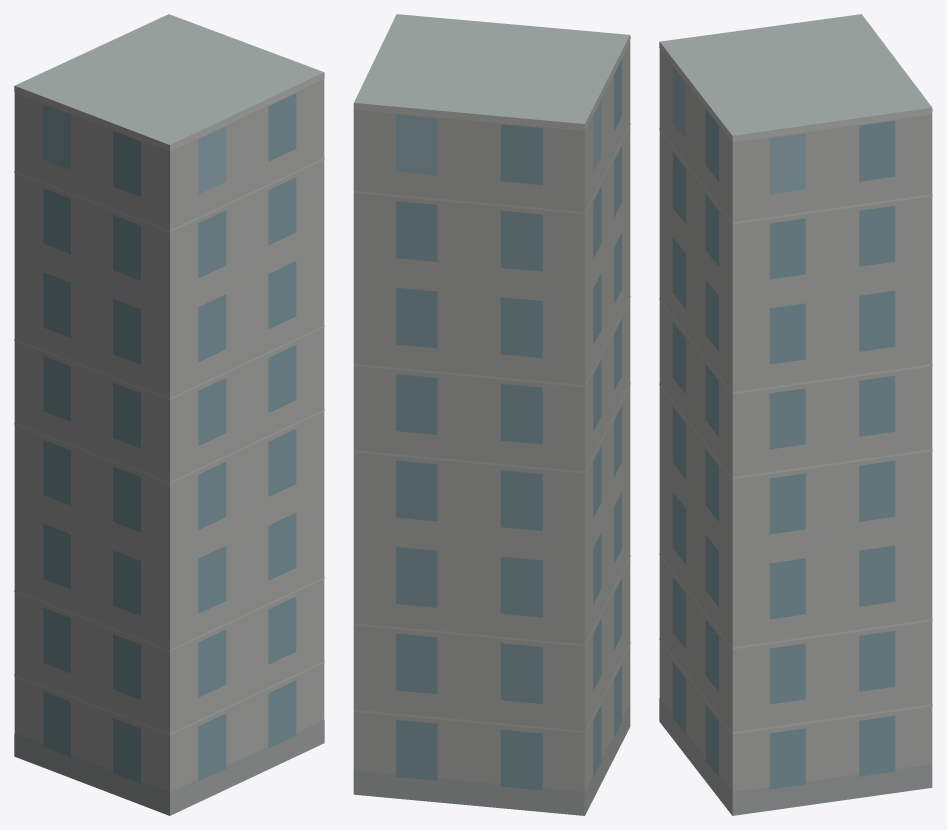
Rendered from survey-upis-32570282.glb.
The picture shows the model from 3 angles, left to right: view 1: azimuth 30°, elevation 25°; view 2: azimuth 150°, elevation 25°; view 3: azimuth 270°, elevation 25°; orthographic projection. The views are drawn at different scales.
Visible parts, largest first — view 1: survey-upis-32570282.tmp; view 2: survey-upis-32570282.tmp; view 3: survey-upis-32570282.tmp.
Boxes of the visible parts, left/top/right/bottom form: survey-upis-32570282.tmp: left=14, top=14, right=324, bottom=815; survey-upis-32570282.tmp: left=353, top=14, right=630, bottom=815; survey-upis-32570282.tmp: left=659, top=14, right=932, bottom=815.
Size of the model in its own units: 9.4 by 24.4 by 8.9.
